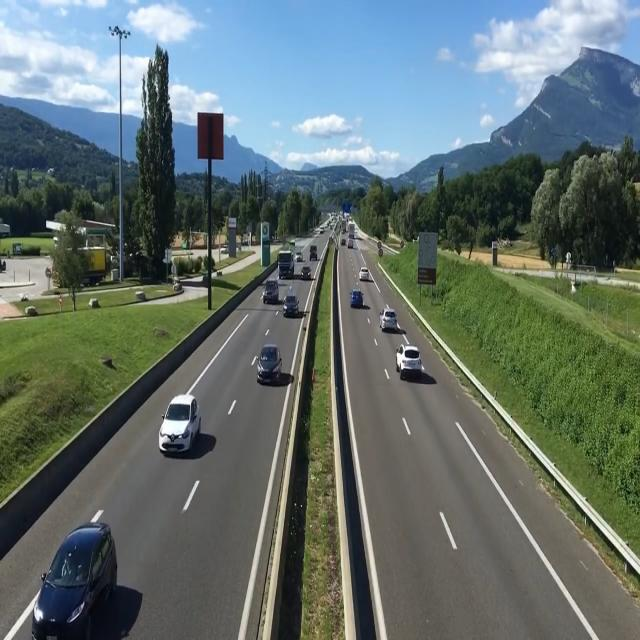car: (32, 520, 121, 640), (160, 391, 201, 457), (258, 339, 285, 387), (398, 340, 425, 386), (283, 286, 302, 321), (379, 305, 400, 336), (263, 276, 279, 302), (352, 285, 368, 310), (358, 266, 370, 283), (308, 242, 318, 262), (300, 266, 312, 282)
truck: (276, 248, 294, 279)
